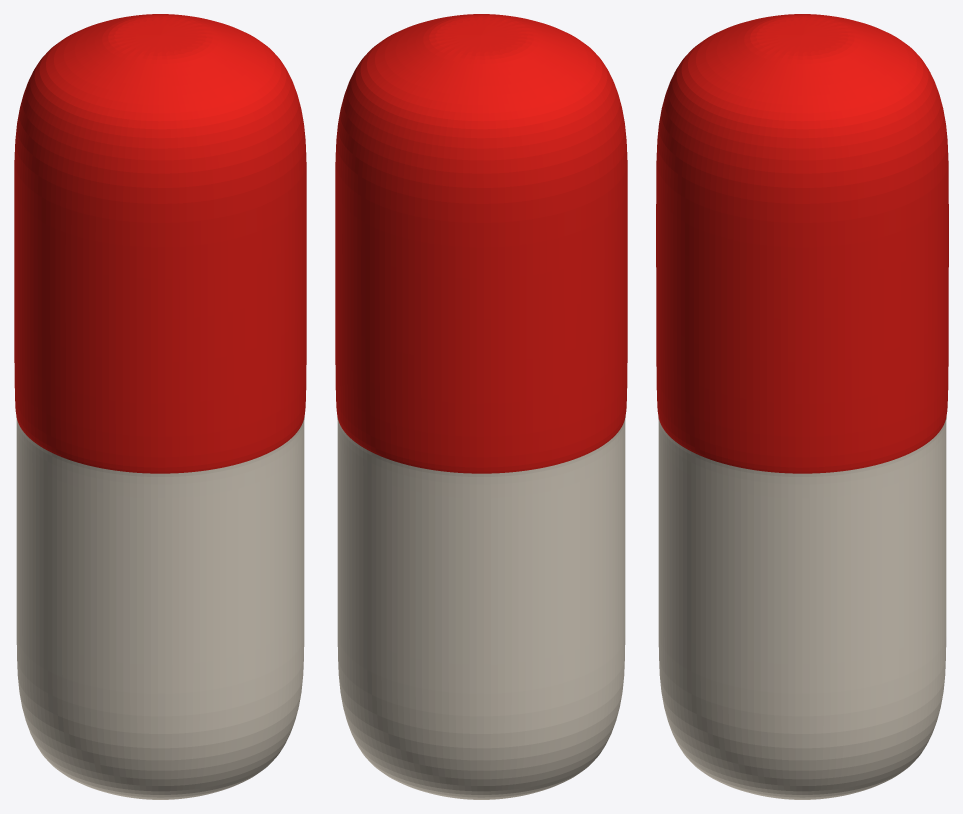
File: PastillasRoja.fbx
3 renders of one model, left to right at view 1: azimuth 30°, elevation 25°; view 2: azimuth 150°, elevation 25°; view 3: azimuth 270°, elevation 25°, orthographic.
Parts seen in each view (by area): view 1: Pastilla 1; view 2: Pastilla 1; view 3: Pastilla 1.
Boxes of the visible parts, box(x1,y1,x2,y2) form: Pastilla 1: box(14, 14, 306, 799); Pastilla 1: box(335, 14, 627, 799); Pastilla 1: box(656, 14, 948, 799).
Size of the model in its own units: 202 by 567 by 202.
